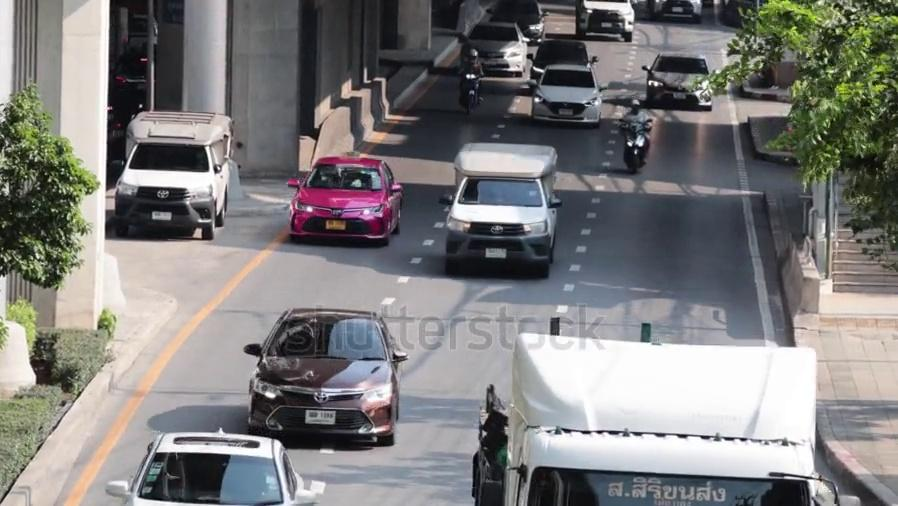rider: (624, 94, 651, 172), (457, 47, 484, 114)
with_helmate: (465, 50, 480, 63), (629, 99, 641, 114)
